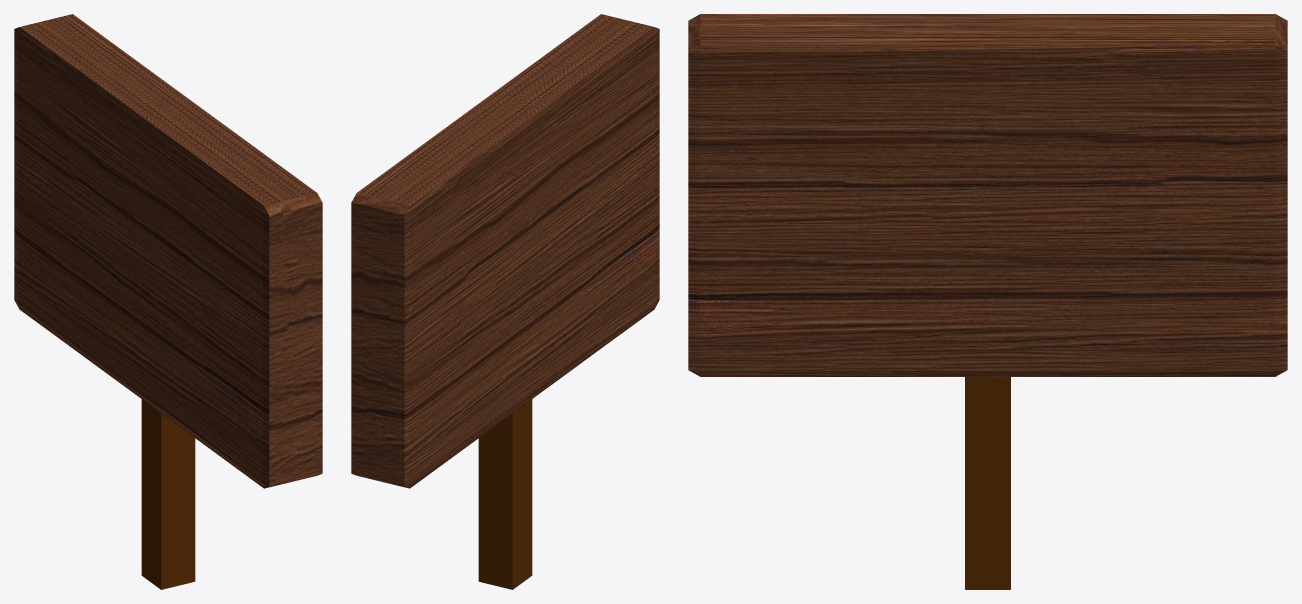
Rendered from sign.glb.
3 views of the same model, side by side, from view 1: azimuth 30°, elevation 25°; view 2: azimuth 150°, elevation 25°; view 3: azimuth 270°, elevation 25° (orthographic). The views are drawn at different scales.
Parts seen in each view (by area): view 1: Cube.001, Cube; view 2: Cube.001, Cube; view 3: Cube.001, Cube.
Part boxes in pixels (x1,y1,x2,y2): Cube.001: (14, 14, 322, 488); Cube: (141, 399, 195, 589); Cube.001: (351, 14, 659, 488); Cube: (478, 399, 532, 589); Cube.001: (688, 14, 1287, 376); Cube: (965, 377, 1010, 589).
Bounding box in the file's own units: 0.2069 × 1.67 × 1.65.
2 materials, 1 textured.
